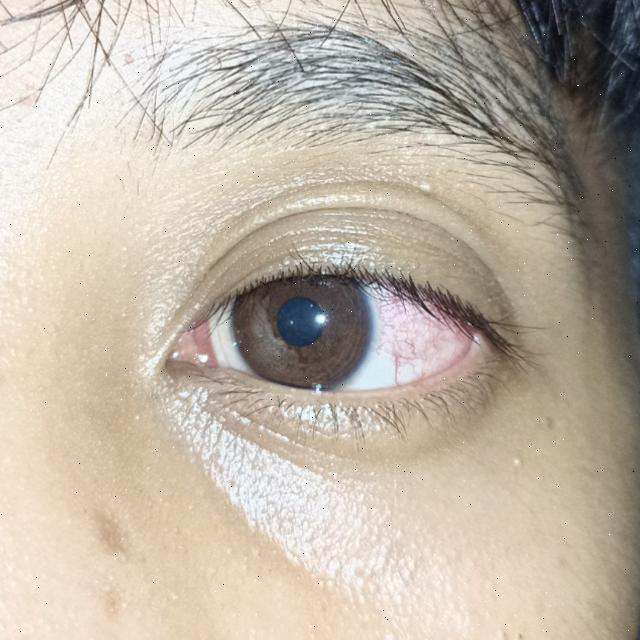Normal: (230, 250, 372, 393)
